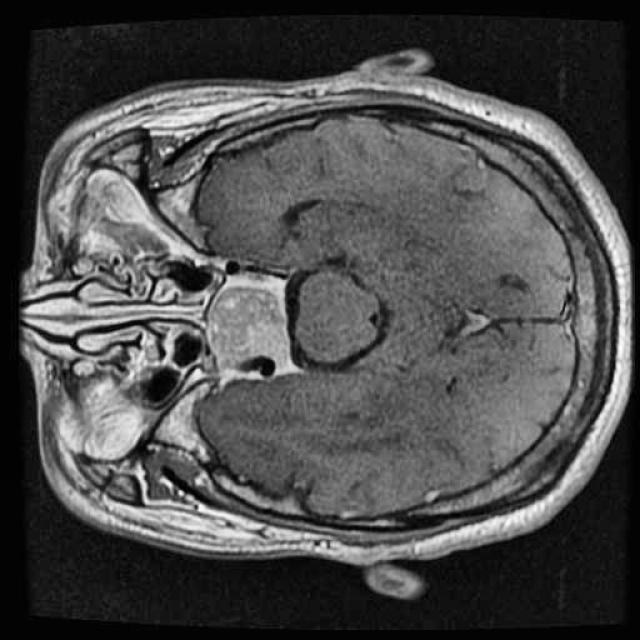Tumor: (196, 275, 309, 381)
